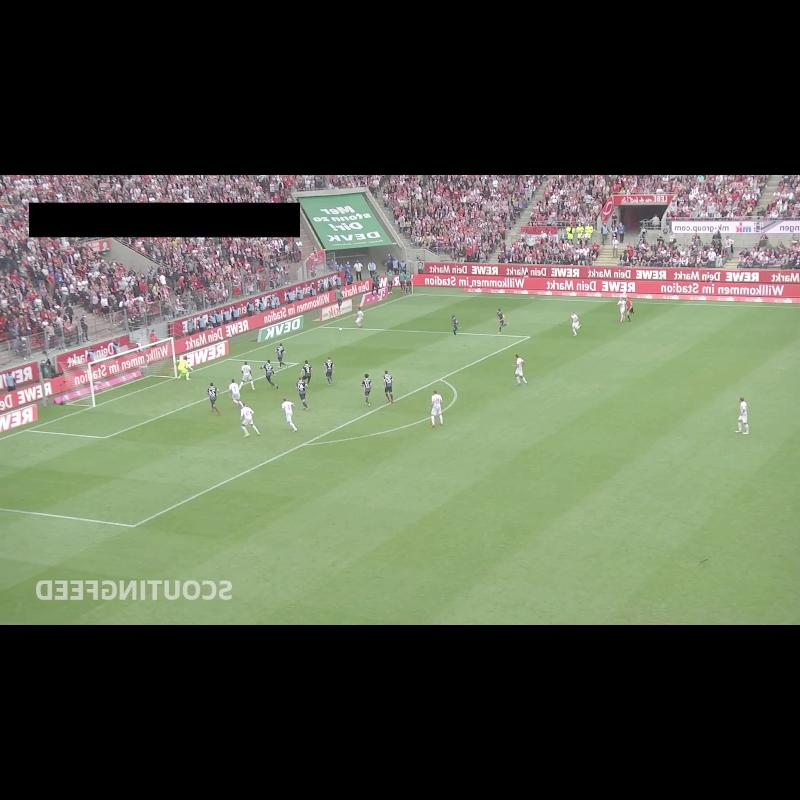cross_recipient_zone: (0, 327, 530, 526)
crossing_player_zone: (0, 509, 359, 625), (321, 293, 753, 345)
pitch: (0, 294, 800, 625)
